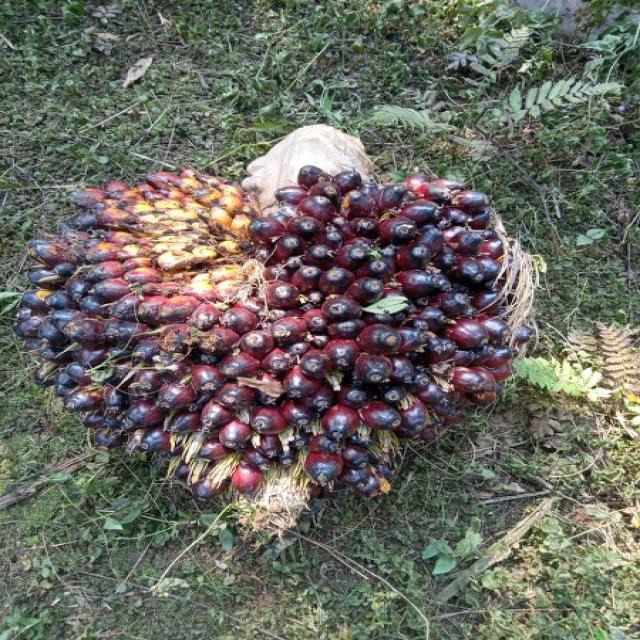fraksi 1: (6, 159, 539, 515)
